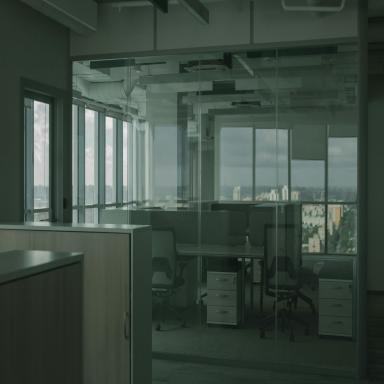glass_panel: (25, 94, 51, 219), (317, 261, 353, 337), (219, 127, 253, 200), (154, 126, 178, 206), (328, 136, 357, 201), (255, 129, 281, 200), (182, 95, 198, 204), (83, 107, 96, 218), (328, 205, 357, 253), (292, 160, 325, 201), (302, 204, 326, 253), (122, 118, 134, 206), (105, 114, 116, 208), (138, 122, 150, 206), (71, 103, 79, 213)
